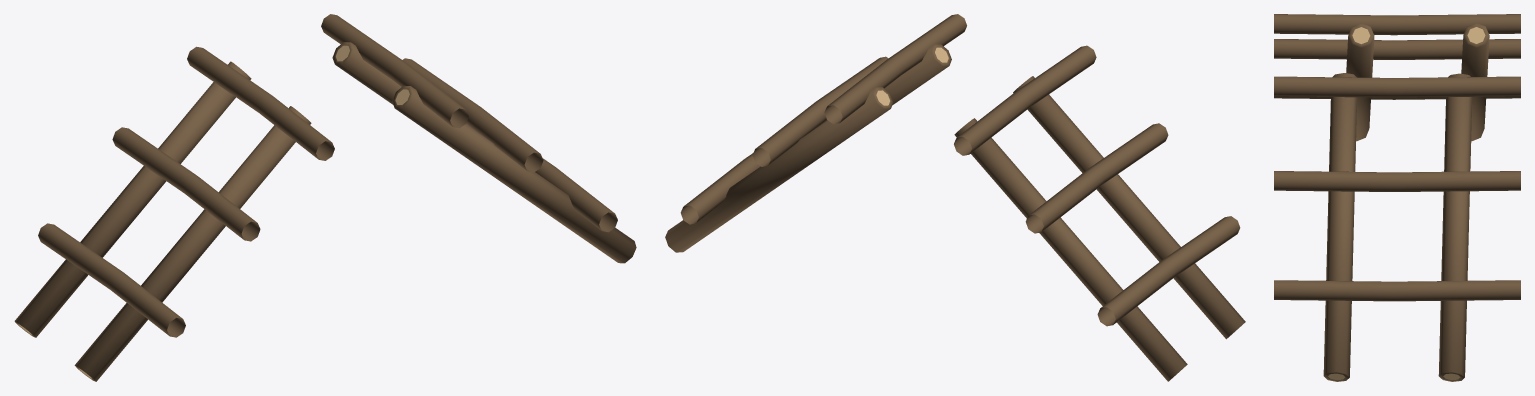
File: rpgpp_ag_roof_support_01_6x3x3_chimney_01.fbx
3 views of the same model, side by side, from view 1: azimuth 30°, elevation 25°; view 2: azimuth 150°, elevation 25°; view 3: azimuth 270°, elevation 25° (orthographic). The views are drawn at different scales.
Visible parts, largest first — view 1: rpgpp_ag_roof_support_01_6x3x3_chimney_01; view 2: rpgpp_ag_roof_support_01_6x3x3_chimney_01; view 3: rpgpp_ag_roof_support_01_6x3x3_chimney_01.
Part boxes in pixels (x1,y1,x2,y2): rpgpp_ag_roof_support_01_6x3x3_chimney_01: (14, 14, 636, 381); rpgpp_ag_roof_support_01_6x3x3_chimney_01: (665, 14, 1245, 381); rpgpp_ag_roof_support_01_6x3x3_chimney_01: (1274, 14, 1520, 381).
Bounding box in the file's own units: 7.34 × 2.89 × 3.
